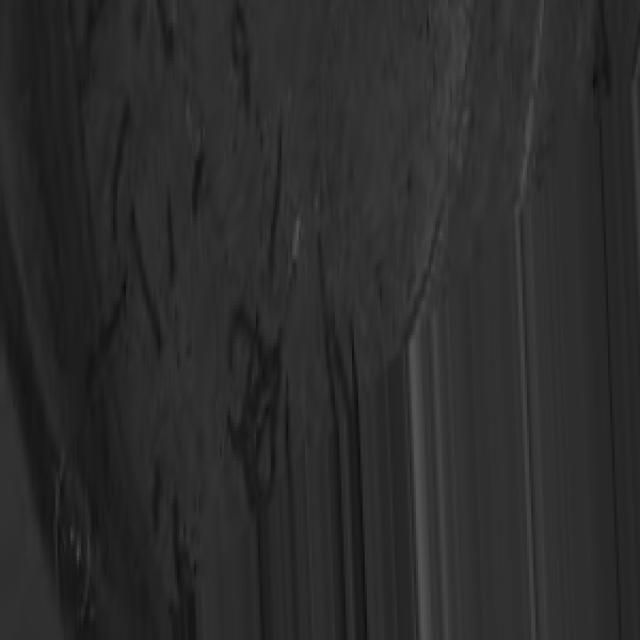larvas: (126, 206, 167, 357), (313, 238, 338, 417), (104, 104, 132, 243), (266, 129, 287, 268), (220, 298, 253, 373), (328, 296, 350, 404), (241, 314, 261, 416), (231, 5, 250, 109), (100, 277, 129, 339), (255, 415, 275, 497), (270, 332, 285, 415), (253, 337, 272, 397), (241, 439, 257, 508), (226, 406, 247, 450), (172, 497, 182, 589), (285, 375, 293, 467), (151, 457, 161, 529), (158, 0, 172, 51), (166, 192, 174, 278), (348, 324, 358, 392), (192, 153, 203, 214), (85, 0, 91, 72)
